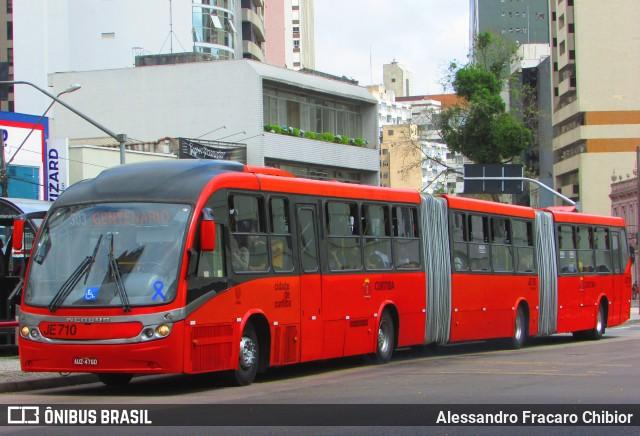CENTENARIO: (88, 208, 172, 228)
